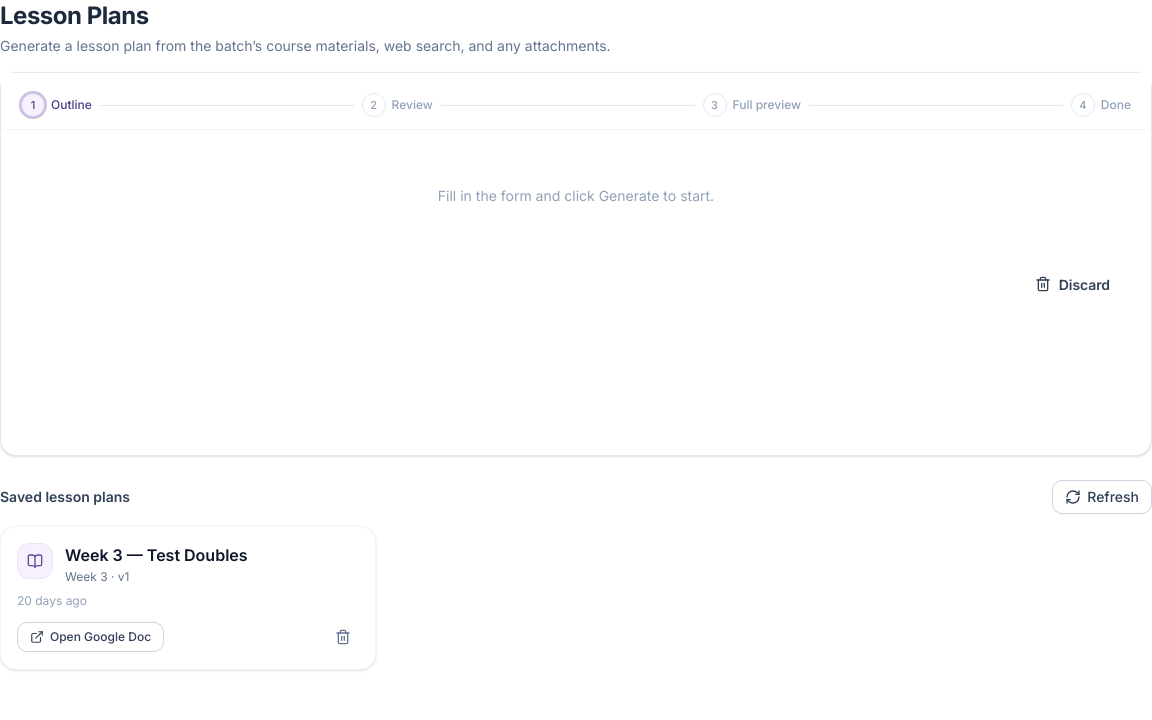
it: a standalone generation page › asks before throwing the draft away
Step 1. Click the button "Discard" → x=1072, y=284, box [1014,262,1131,306]
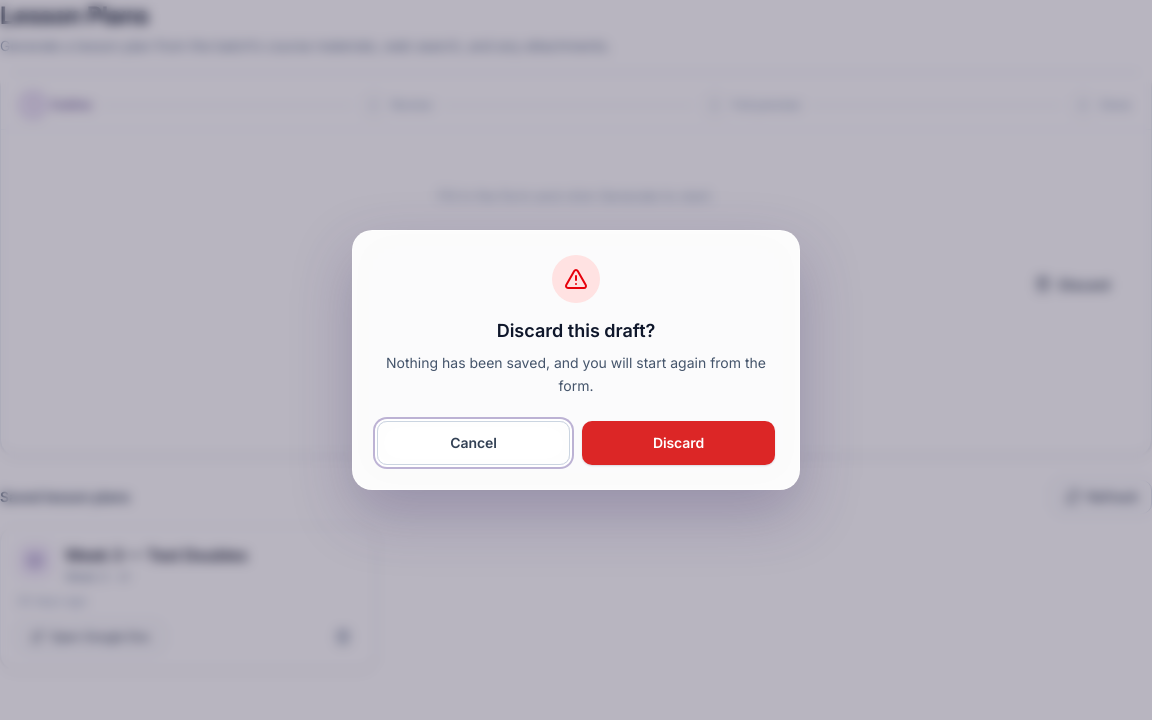
Step 2. Click the button "Cancel" → x=474, y=443, box [377,421,570,465]
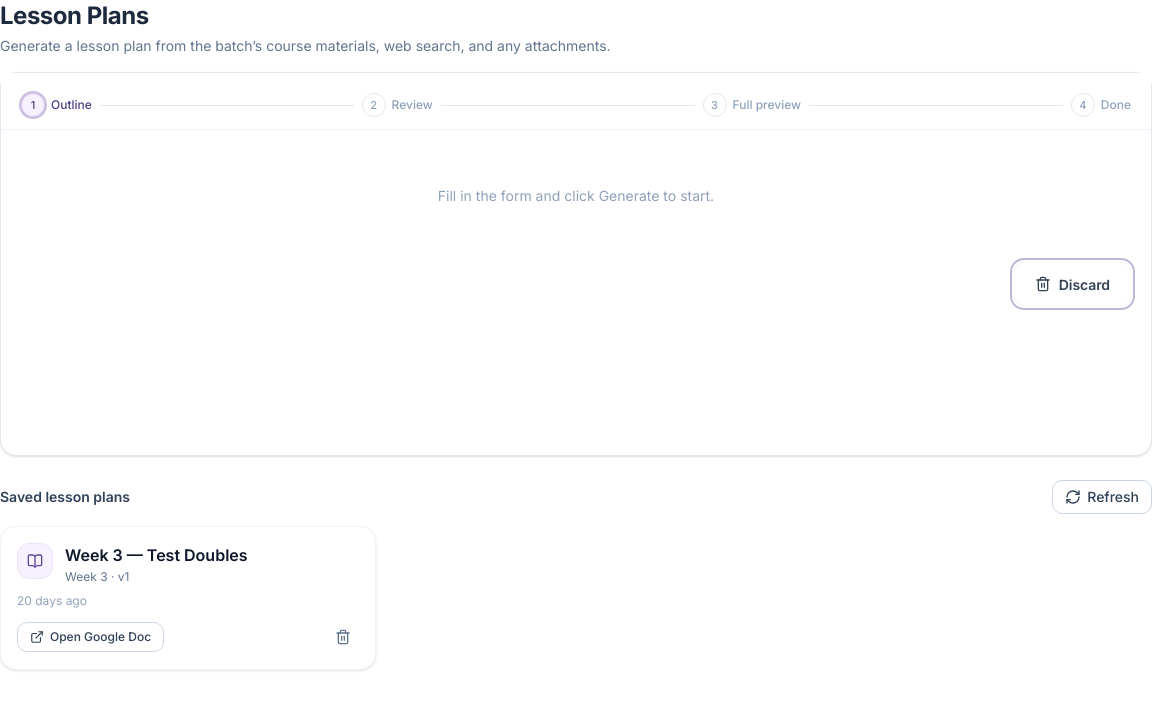
Check: the dialog is gone
